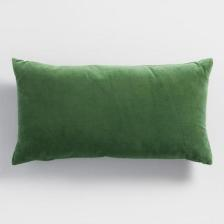green: (12, 59, 213, 165)
